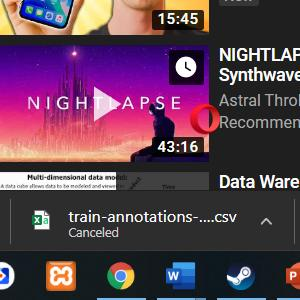opera: (190, 104, 220, 135)
